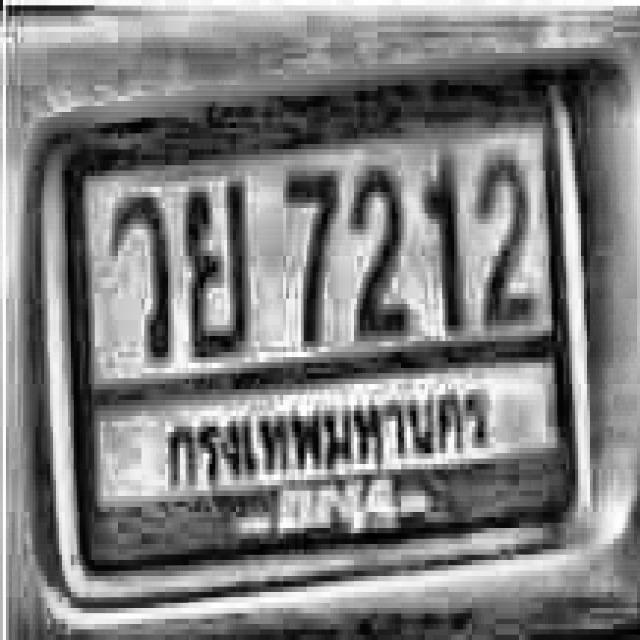license-plate: (10, 61, 609, 598)
